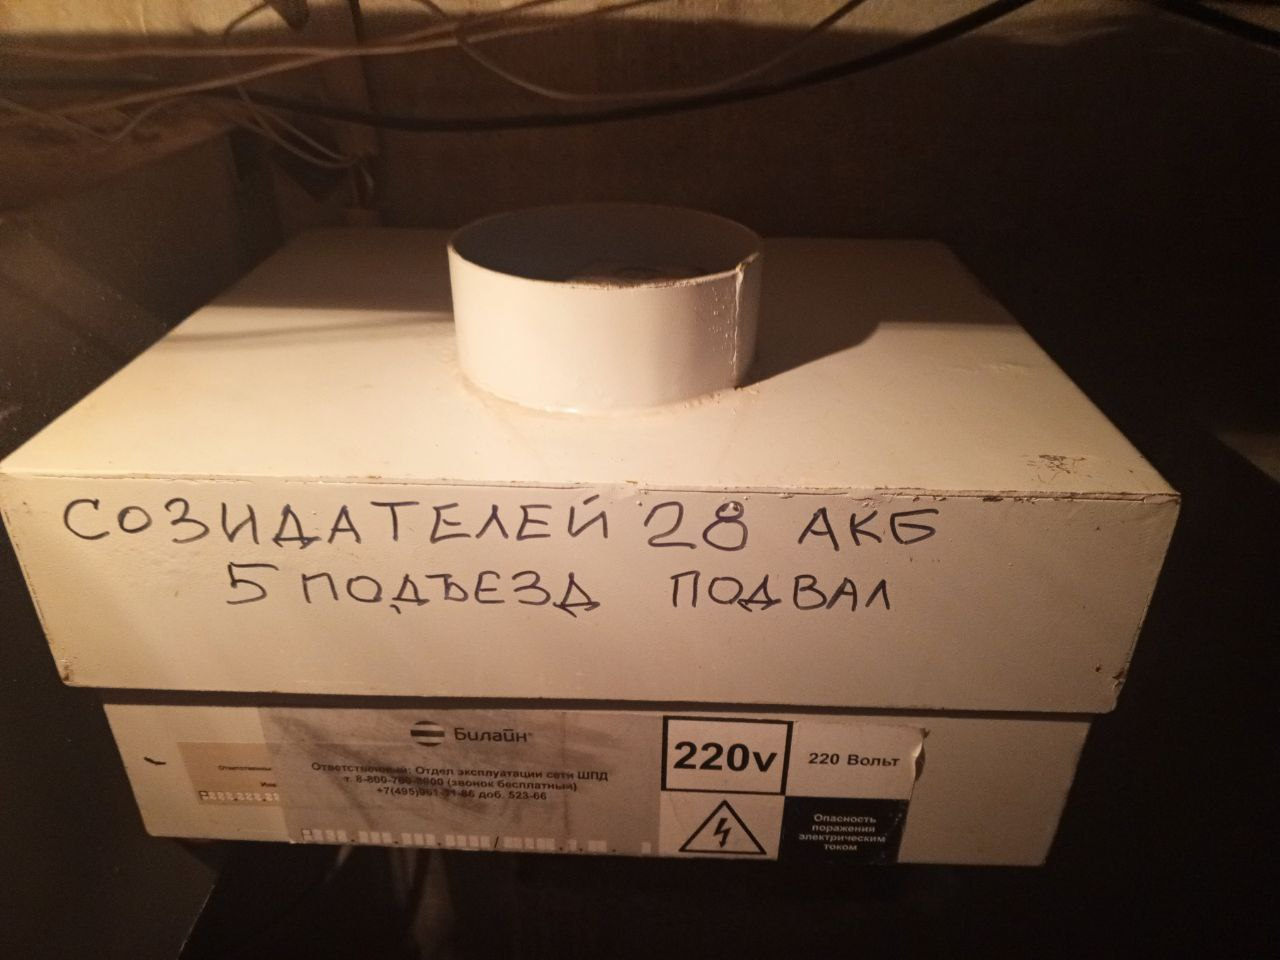shta-ps: (12, 179, 1193, 895)
